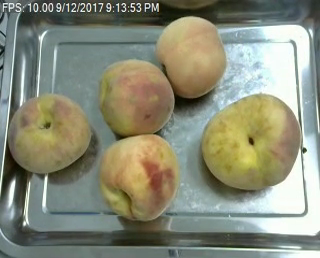Peach: (201, 92, 301, 190), (96, 133, 180, 219), (7, 92, 92, 173), (97, 57, 174, 136), (155, 15, 227, 98)
